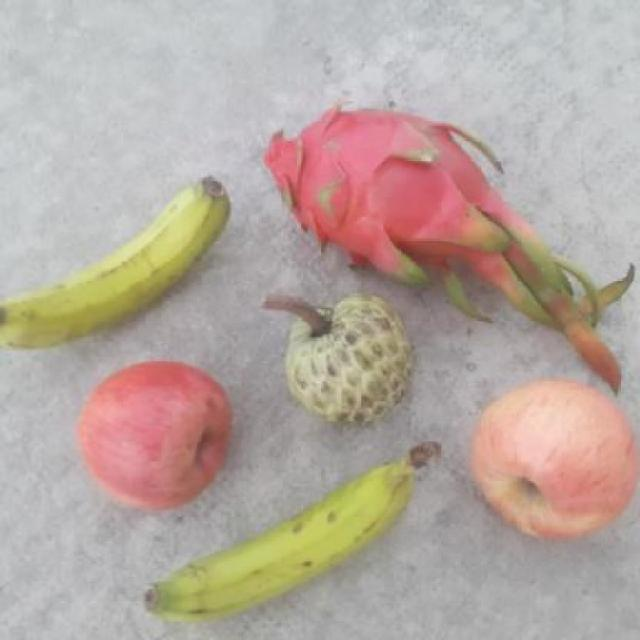apple: (464, 378, 638, 542), (71, 355, 238, 518)
banana: (132, 438, 439, 631), (0, 174, 234, 352)
dragon fruit: (257, 101, 501, 298)
sugar apple: (273, 291, 418, 427)
